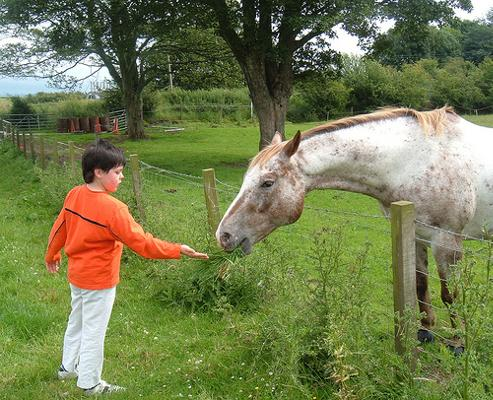person: (45, 143, 215, 395)
